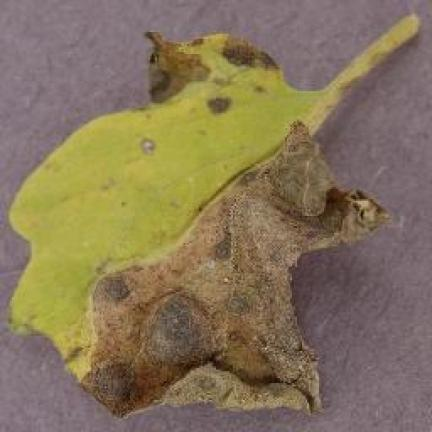leaf: (79, 121, 390, 415), (307, 15, 418, 132), (312, 29, 415, 142), (54, 257, 137, 385)
